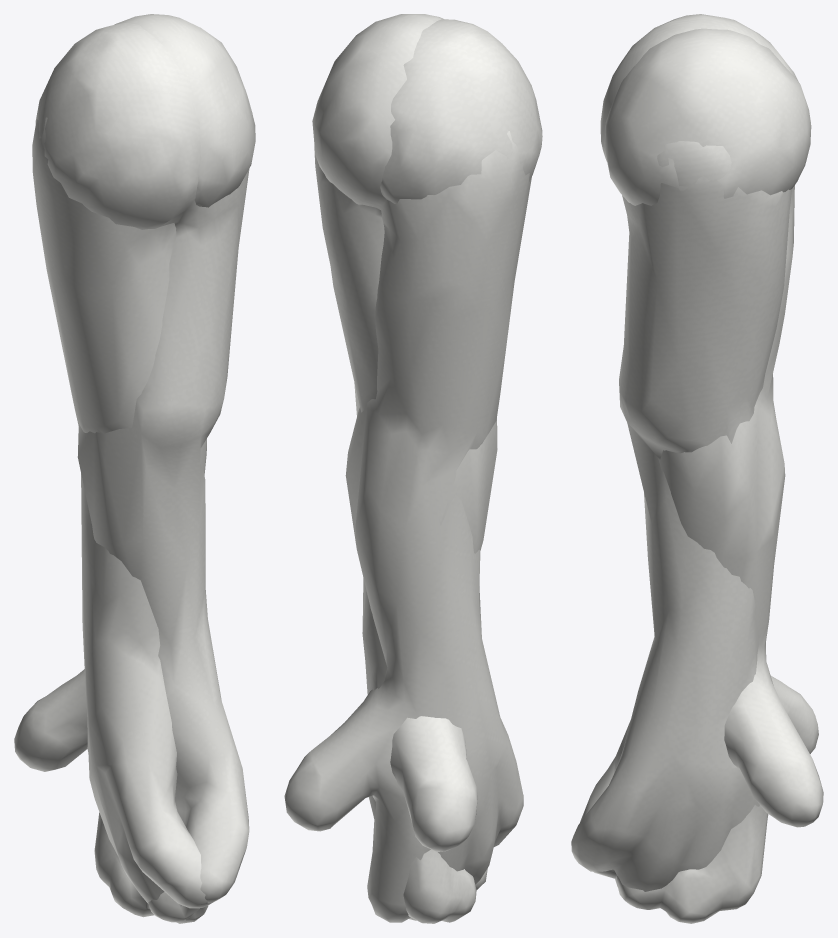
The model's file is arms-rbx1718.glb.
The picture shows the model from 3 angles, left to right: view 1: azimuth 30°, elevation 25°; view 2: azimuth 150°, elevation 25°; view 3: azimuth 270°, elevation 25°; orthographic projection. The views are drawn at different scales.
Parts seen in each view (by area): view 1: armR__whole, armL__whole; view 2: armL__whole, armR__whole; view 3: armR__whole, armL__whole.
Boxes of the visible parts, x1=… form: armR__whole: x1=14, y1=23, x2=252, y2=922; armL__whole: x1=32, y1=14, x2=255, y2=923; armL__whole: x1=284, y1=14, x2=531, y2=922; armR__whole: x1=314, y1=19, x2=542, y2=923; armR__whole: x1=571, y1=14, x2=818, y2=891; armL__whole: x1=580, y1=28, x2=823, y2=923.
Size of the model in its own units: 0.1477 by 0.6448 by 0.1668.
Materials: 2 (2 with a texture image).
